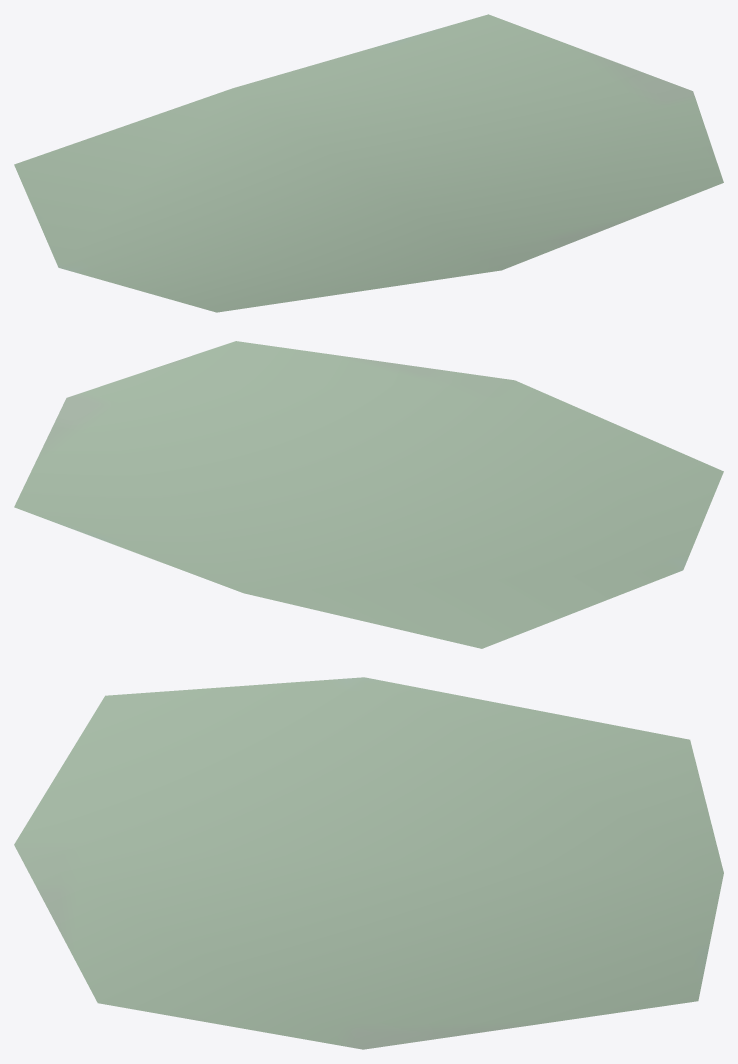
Rendered from TROLLHOLE02_HOLECAP28.fbx.
3 views of the same model, one above another, from view 1: azimuth 30°, elevation 25°; view 2: azimuth 150°, elevation 25°; view 3: azimuth 270°, elevation 25° (orthographic). The views are drawn at different scales.
Visible parts, largest first — view 1: TROLLHOLE02_HOLECAP28; view 2: TROLLHOLE02_HOLECAP28; view 3: TROLLHOLE02_HOLECAP28.
Boxes of the visible parts, <box> form: TROLLHOLE02_HOLECAP28: <box>14,14,723,312</box>; TROLLHOLE02_HOLECAP28: <box>14,341,723,648</box>; TROLLHOLE02_HOLECAP28: <box>14,677,723,1049</box>.
Size of the model in its own units: 23700 by 1129 by 17730.
Materials: 1 (1 with a texture image).
